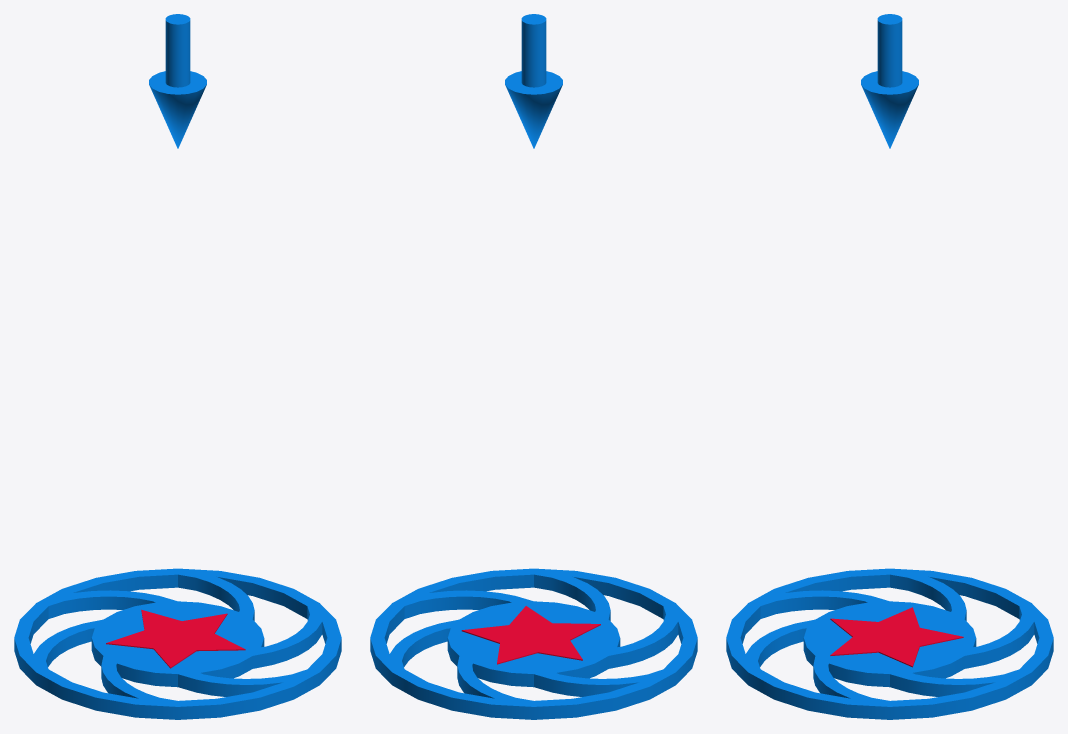
File: yuansu08.1574d5a.glb
The picture shows the model from 3 angles, left to right: view 1: azimuth 30°, elevation 25°; view 2: azimuth 150°, elevation 25°; view 3: azimuth 270°, elevation 25°; orthographic projection.
Visible parts, largest first — view 1: yuansu08; view 2: yuansu08; view 3: yuansu08.
Boxes of the visible parts, box(x1,y1,x2,y2) form: yuansu08: box(14, 14, 341, 719); yuansu08: box(370, 14, 697, 719); yuansu08: box(726, 14, 1053, 719).
Size of the model in its own units: 1.14 by 2.42 by 1.14.
